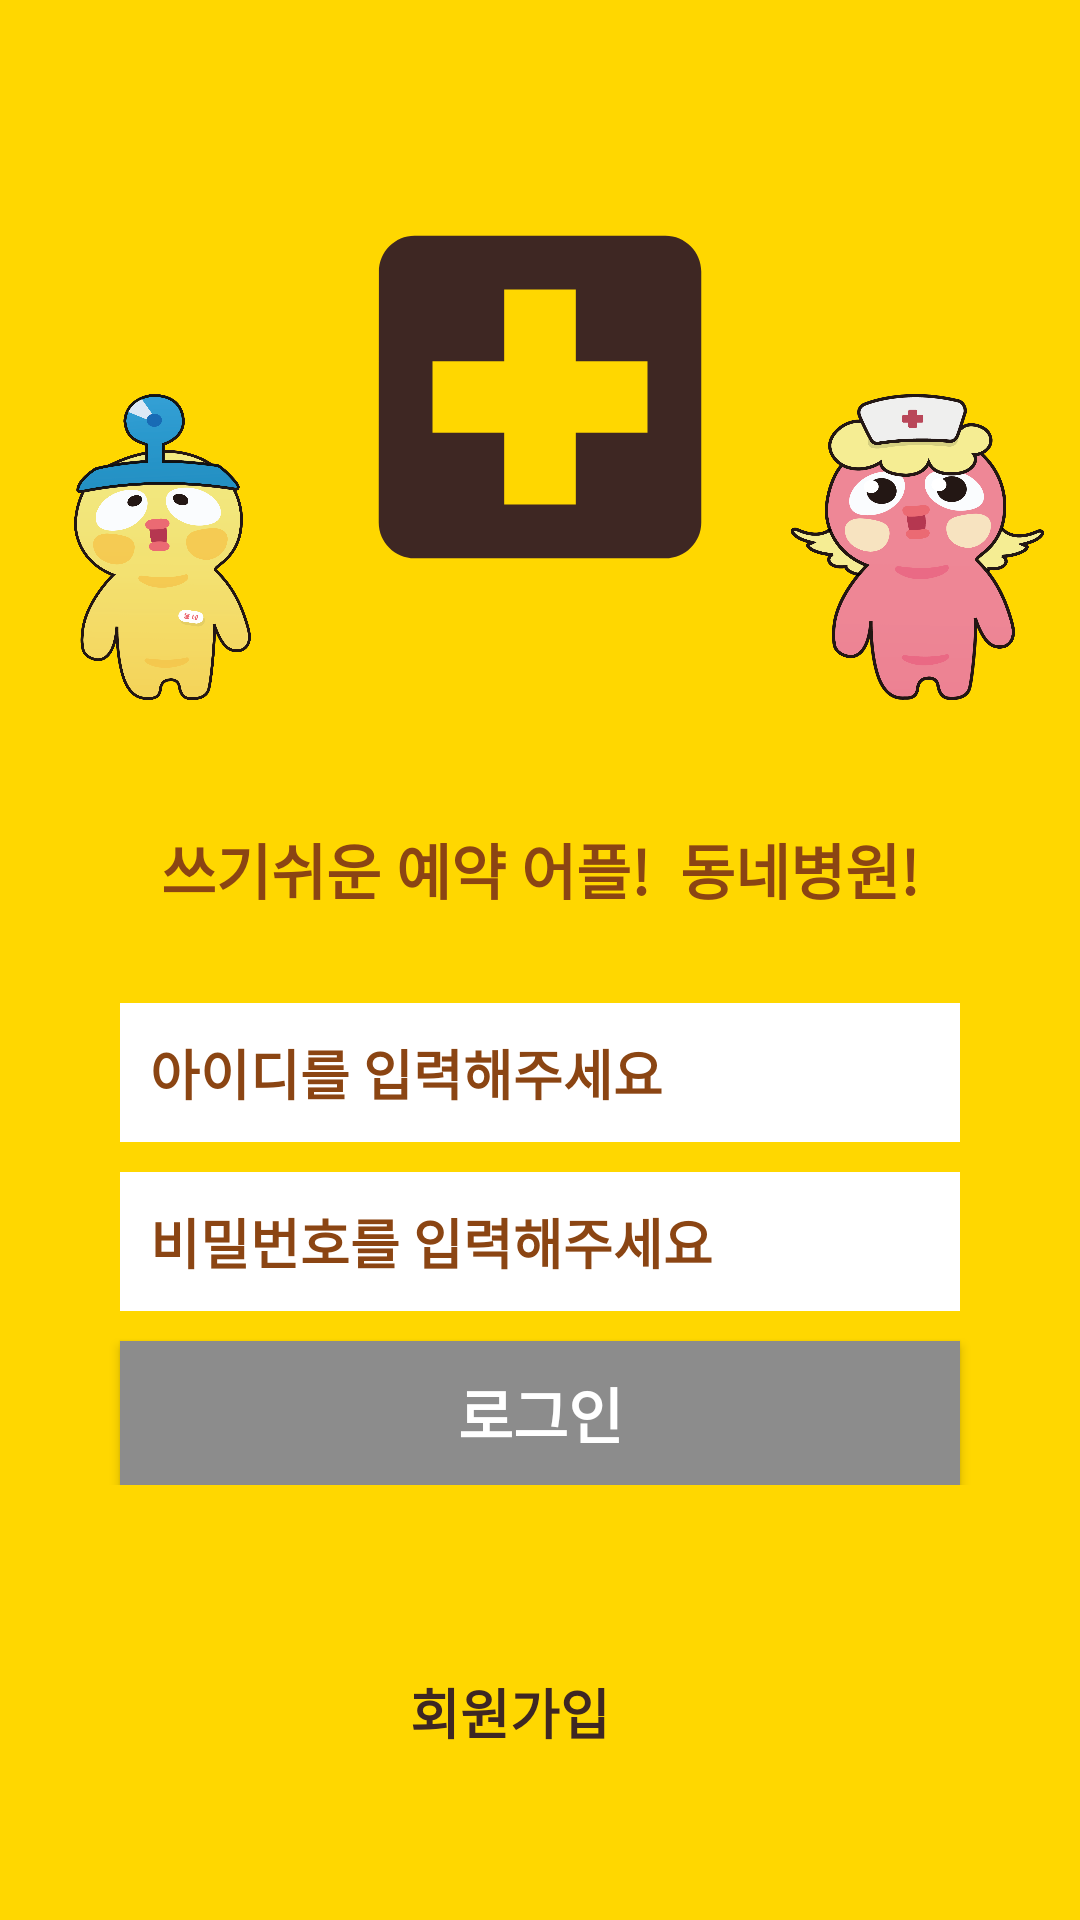

Icons on this 1080px x 1920px Android screen, each with the point to tap as [x,y]:
local hospital: [540,397]
